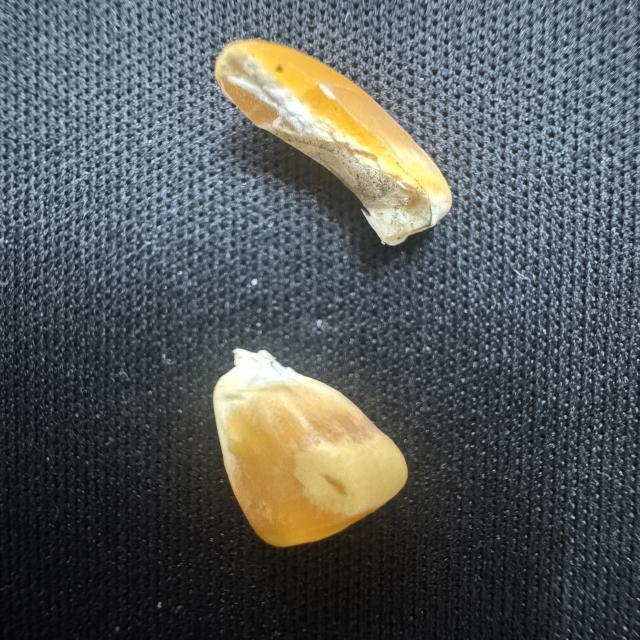Bad-Seed: (204, 29, 462, 251), (204, 340, 416, 554)
